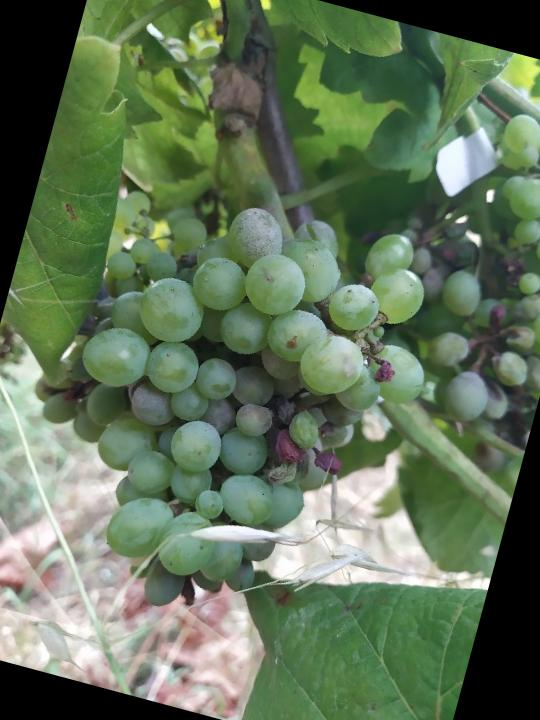grape: (19, 159, 464, 662)
